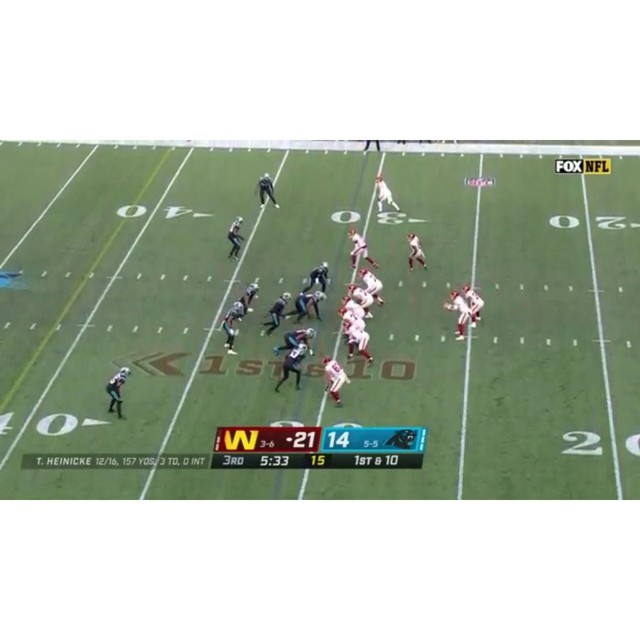american-football-player: (273, 342, 308, 393), (442, 289, 473, 341), (342, 321, 375, 365), (322, 356, 350, 407), (348, 226, 378, 271), (261, 293, 292, 336), (106, 368, 131, 420), (288, 291, 327, 324), (276, 327, 317, 358), (221, 302, 245, 354), (358, 267, 385, 306), (374, 174, 400, 213), (462, 285, 485, 328), (301, 262, 330, 296), (348, 283, 375, 318), (407, 232, 429, 272), (238, 282, 260, 319), (258, 174, 280, 209), (227, 218, 244, 260)
